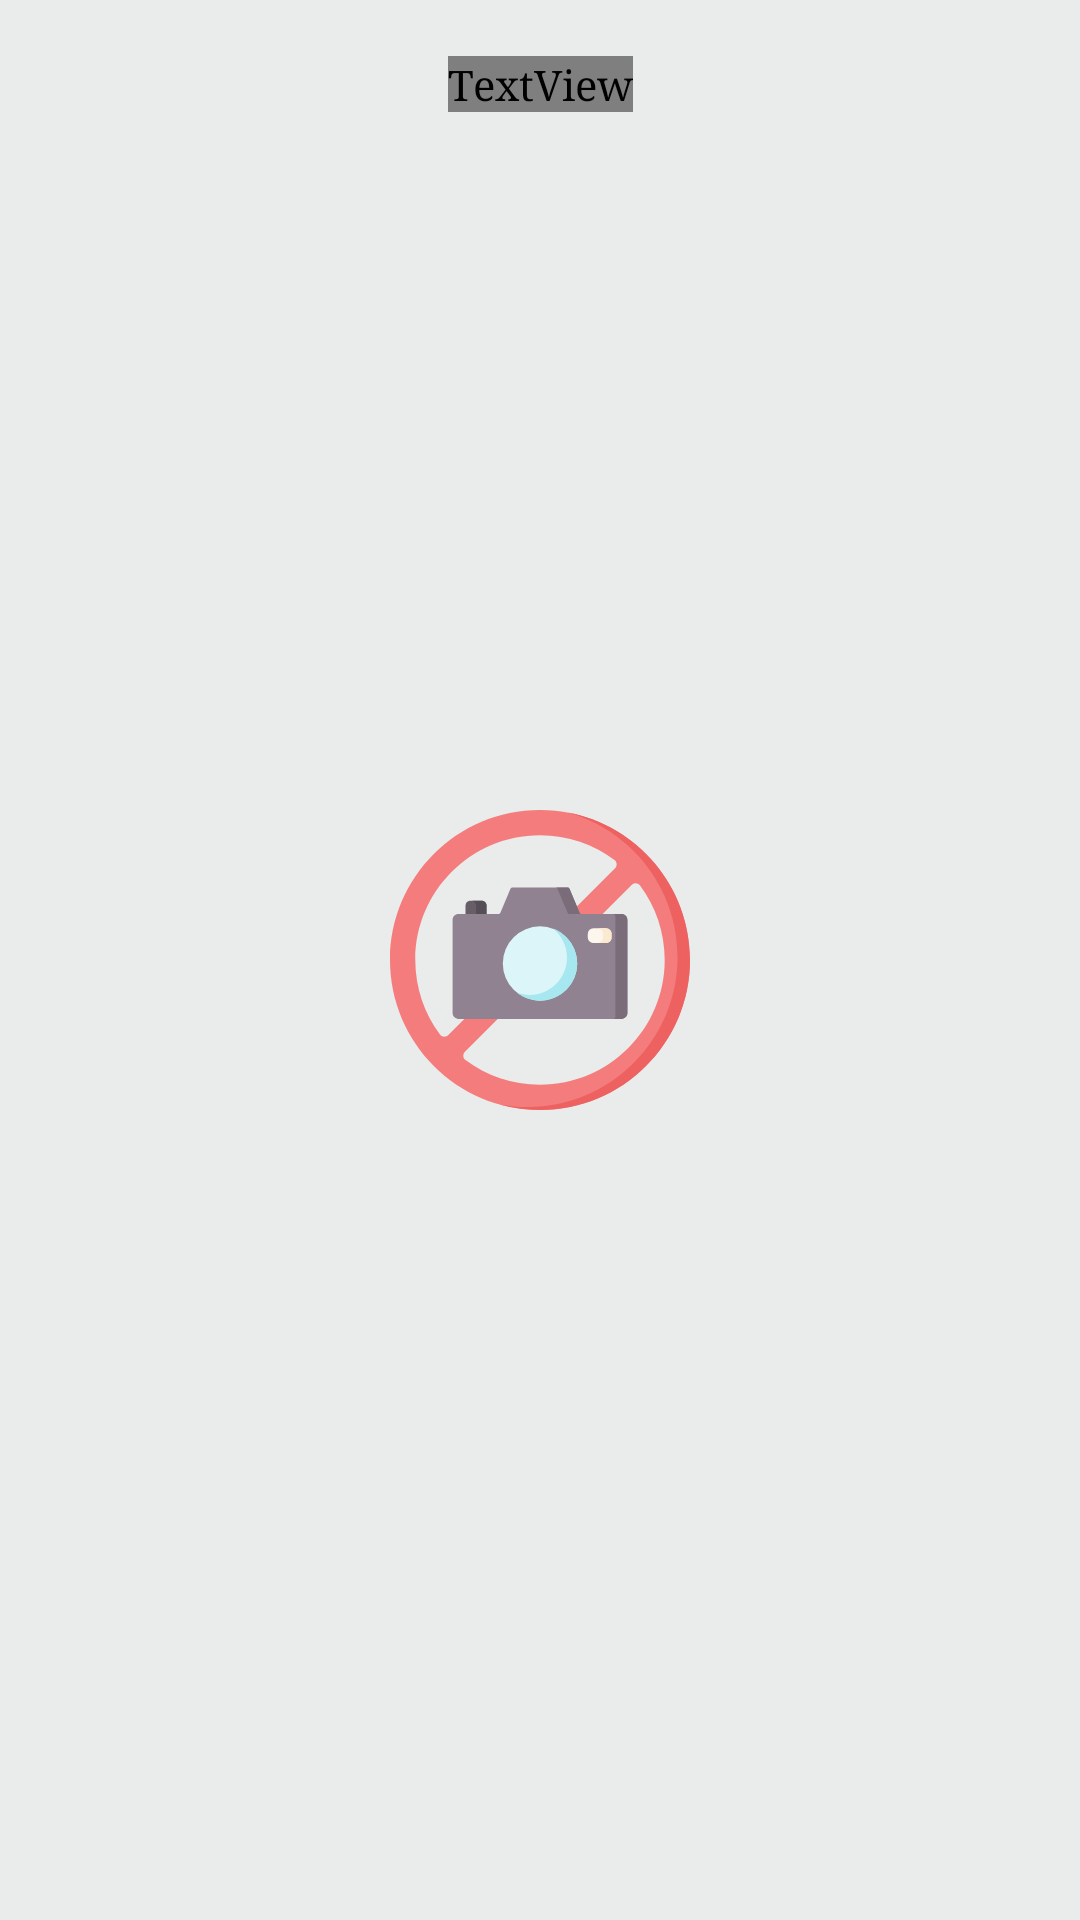

Named icons in this screenshot (1080w x 1920h) and their centers, point (x, y):
no camera: point (540, 960)
